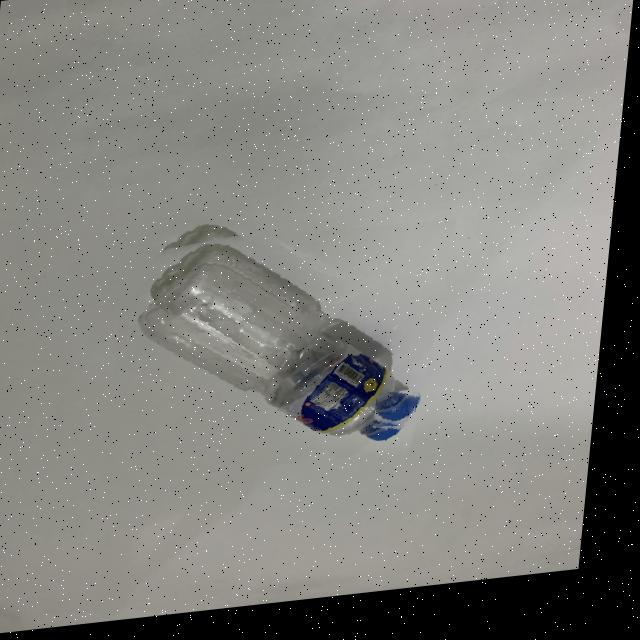plasticbottle: (110, 204, 457, 487)
plasticbottlecap: (382, 399, 426, 438)
